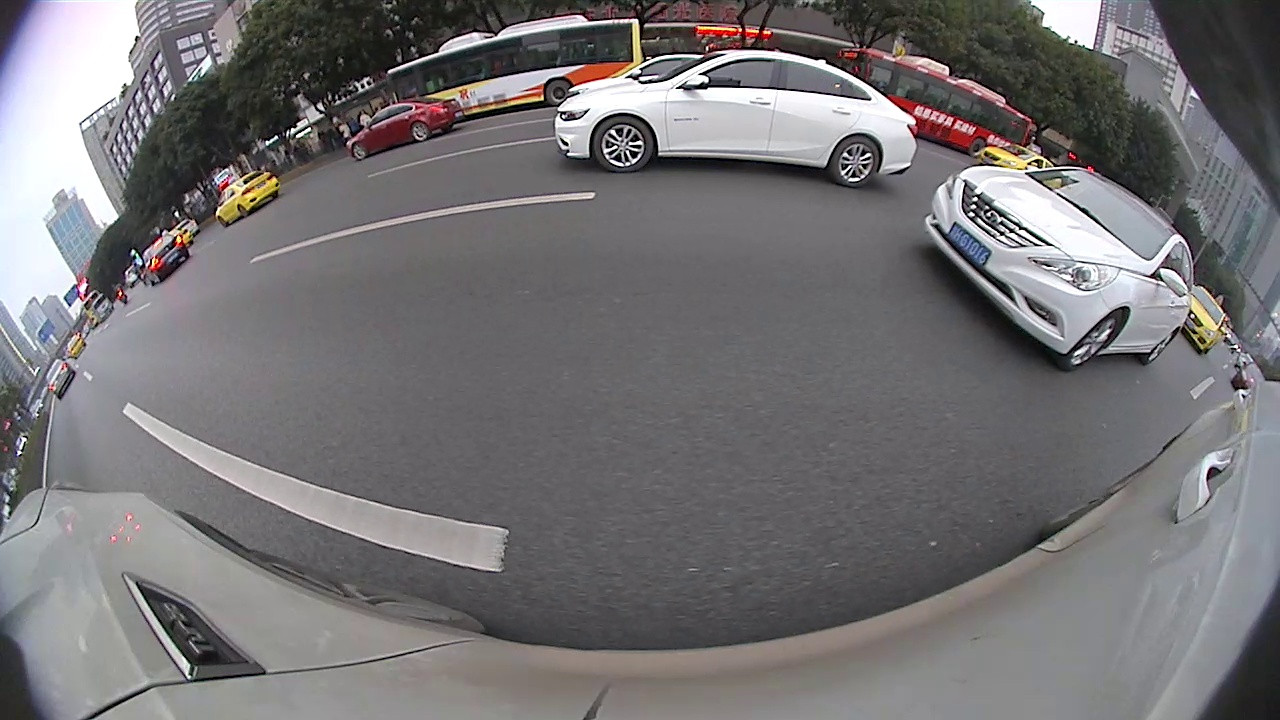bus: (795, 48, 1034, 159), (386, 14, 643, 117)
car: (923, 165, 1191, 374), (552, 51, 919, 189), (346, 97, 466, 161), (215, 172, 280, 228), (979, 143, 1064, 181), (1185, 285, 1227, 356), (141, 234, 191, 289), (45, 358, 76, 400)
front: (589, 118, 656, 171), (1061, 313, 1121, 367), (353, 142, 364, 157)
rear: (831, 138, 879, 187), (1142, 331, 1174, 363), (544, 82, 573, 104), (412, 122, 429, 138), (970, 138, 983, 157)
